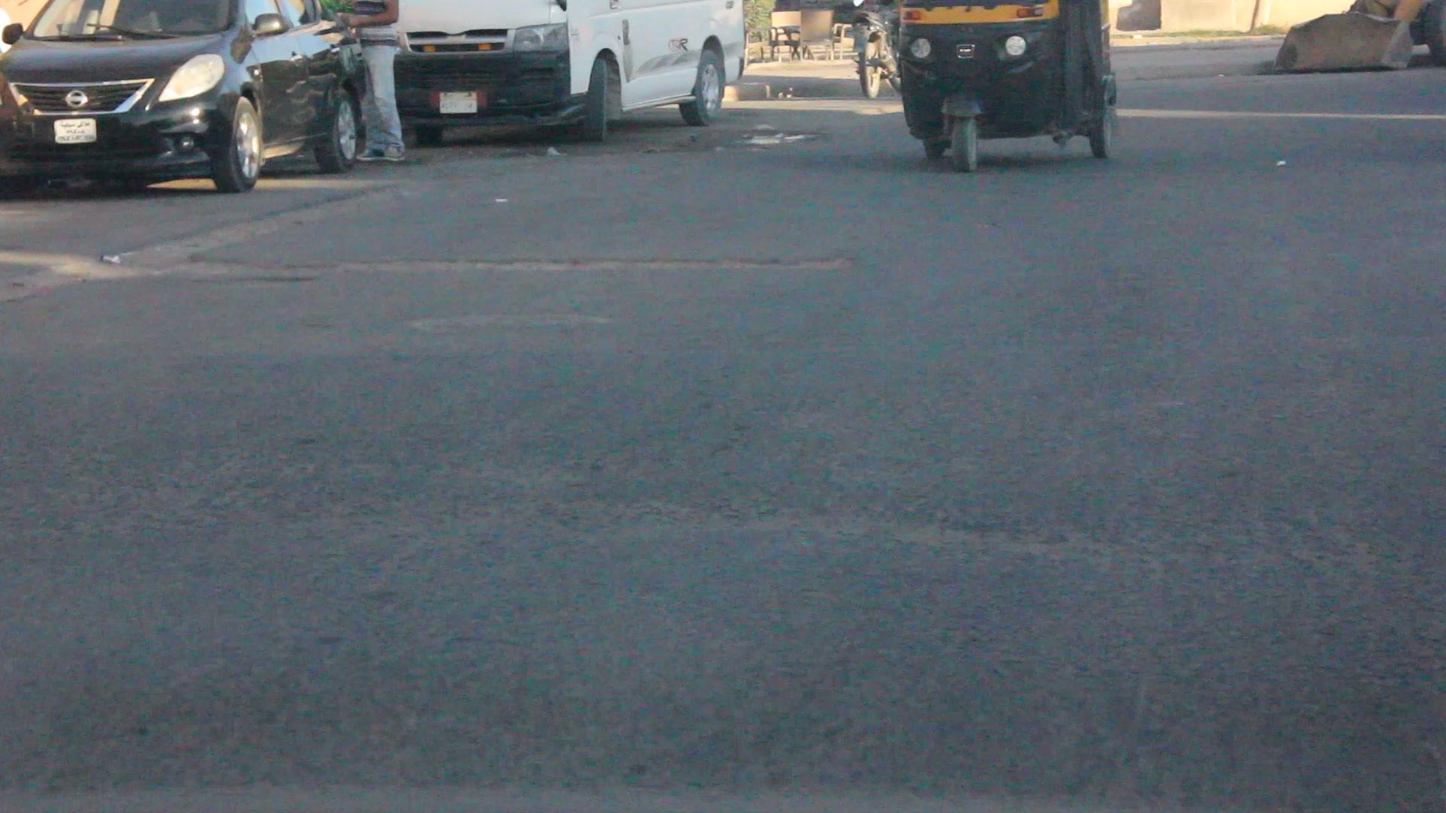Pothole: (164, 245, 845, 279)
